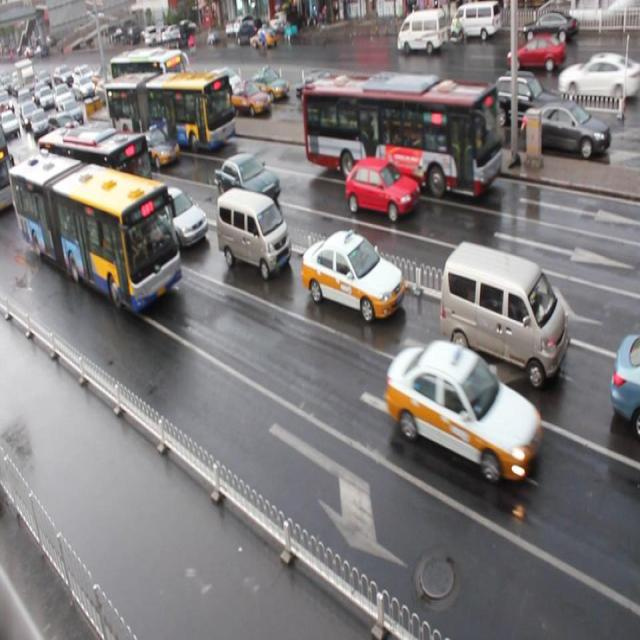car: (384, 339, 539, 481), (300, 228, 404, 321), (344, 156, 418, 222), (141, 185, 208, 250), (214, 153, 279, 206), (134, 128, 180, 168)
truck: (440, 240, 568, 386), (216, 186, 292, 276)
van: (10, 152, 182, 316), (302, 75, 499, 196), (38, 121, 156, 232), (106, 70, 234, 148)
